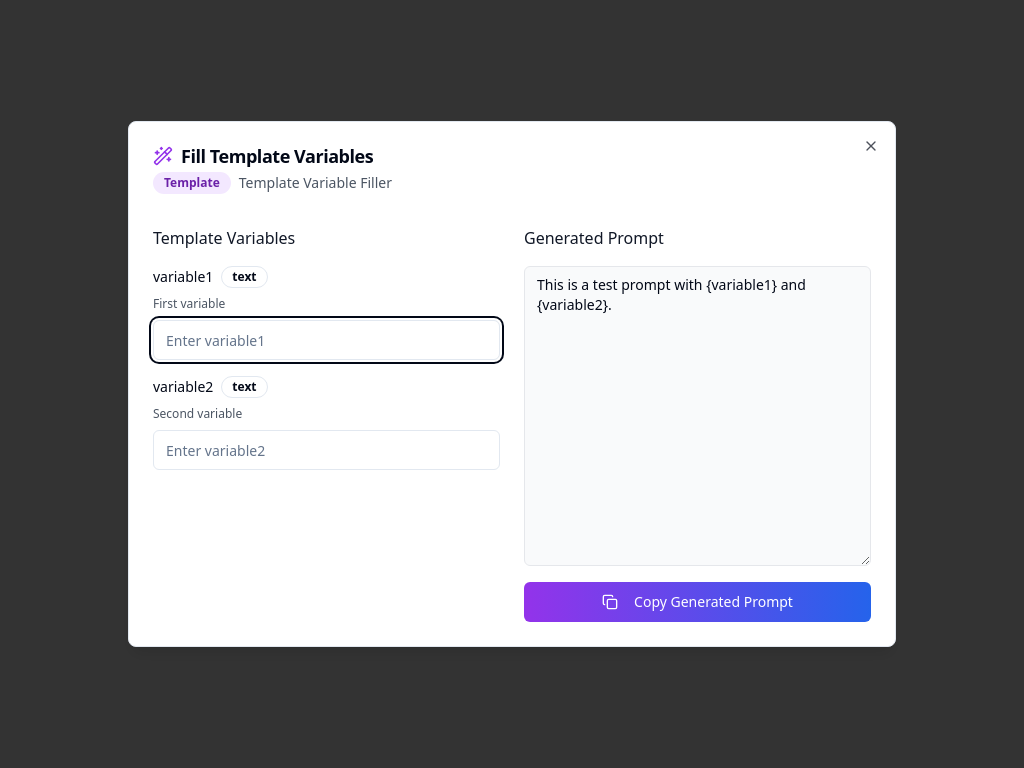
Test case: TemplateVariableFiller › updates the preview when variables are filled
Type "value1" into the field with placeholder "Enter variable1". click: point(326, 340)
box: [153, 320, 500, 360]
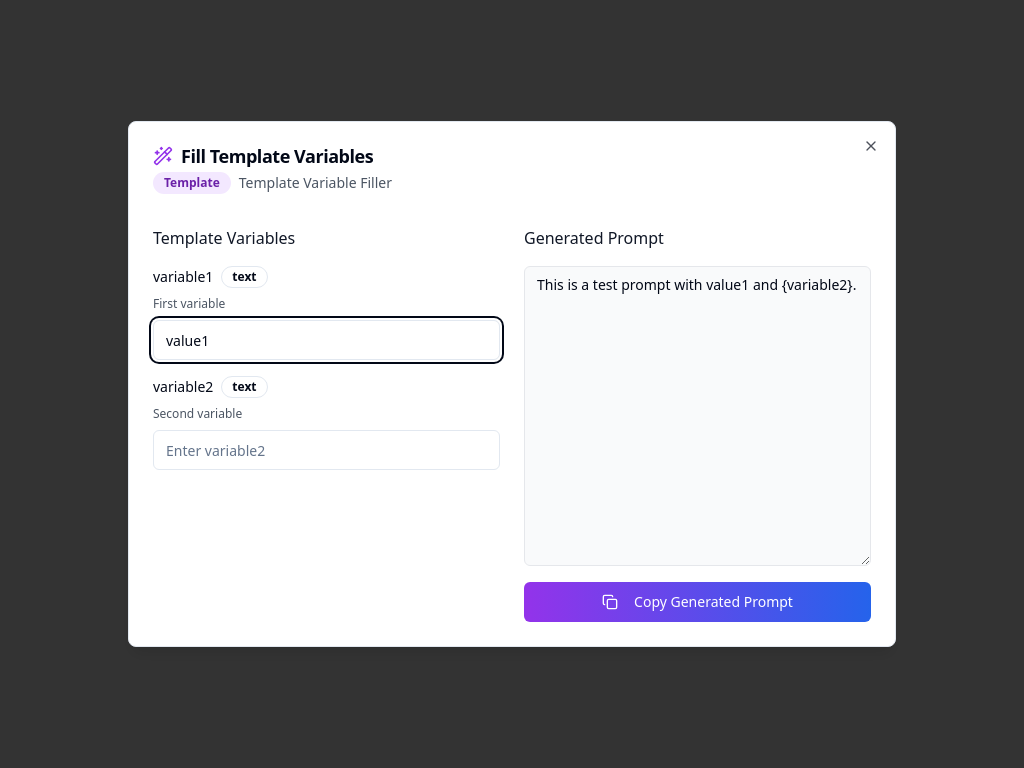
Type "value2" into the field with placeholder "Enter variable2". click: point(326, 450)
box: [153, 430, 500, 470]
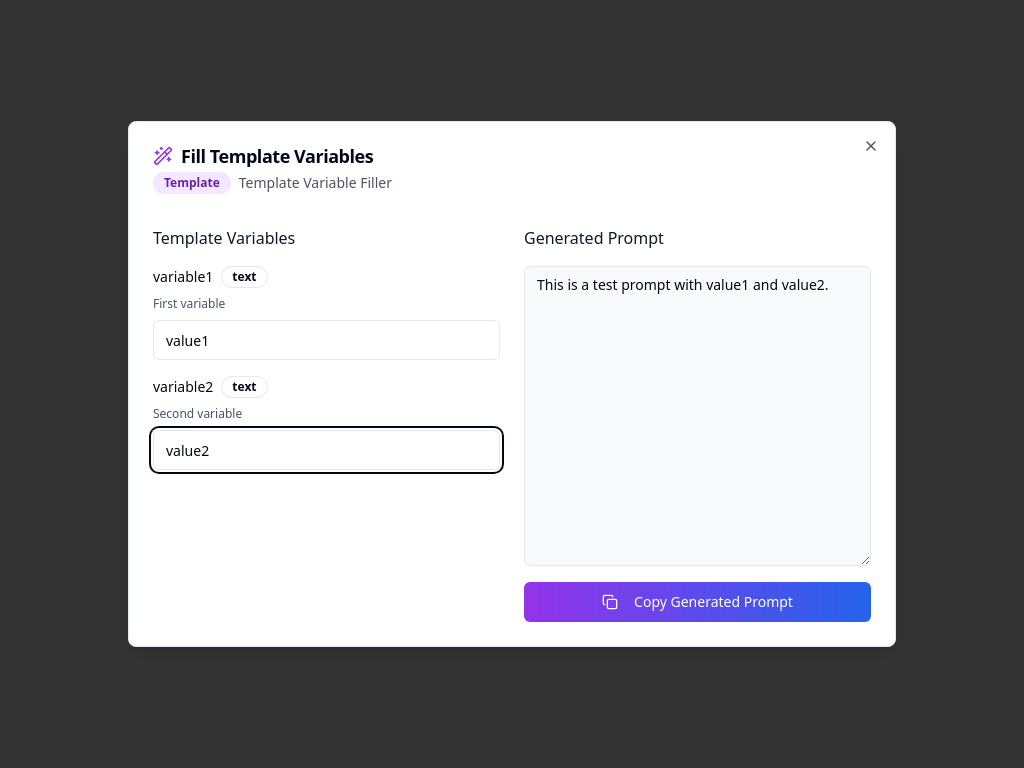
Expected: the text box showing "This is a test prompt with value1 and value2." is shown, [524, 266, 871, 566]
